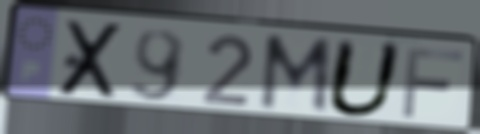2: (198, 33, 255, 109)
9: (126, 26, 192, 103)
F: (399, 45, 467, 121)
M: (255, 32, 336, 118)
U: (322, 36, 408, 120)
X: (54, 18, 129, 101)
